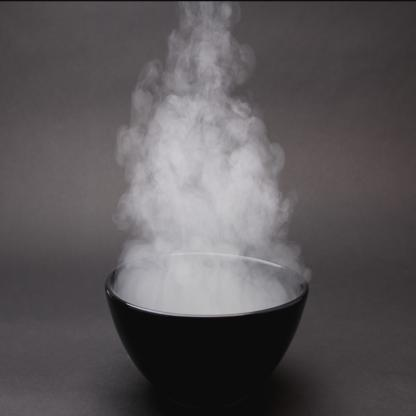smoke: (118, 6, 282, 304)
